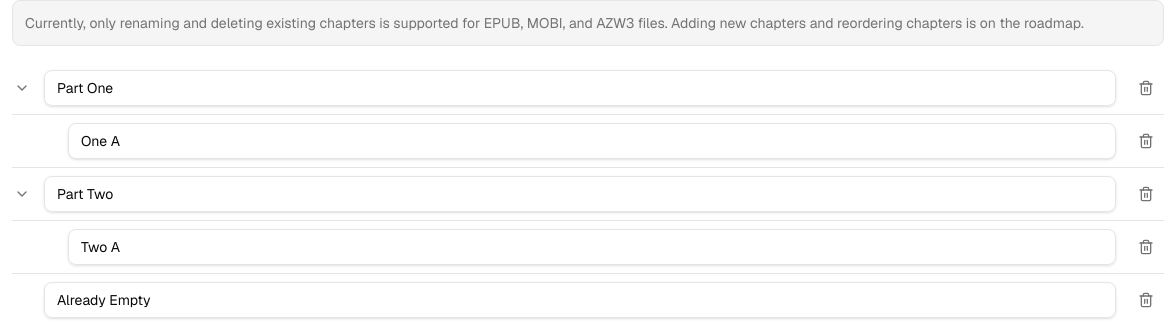
Test: FileChaptersEditor - EPUB heading left without chapters › blocks saving until a heading emptied in this edit is deleted
Expected: the 1st field showing "Part One" is shown, top-left (44, 70), bottom-right (1116, 106)
Expected: the text "no chapters are left under this heading" is not shown
Click the 2nd button named "Delete chapter". click: x=1146, y=141
box: top-left (1128, 123), bottom-right (1164, 159)
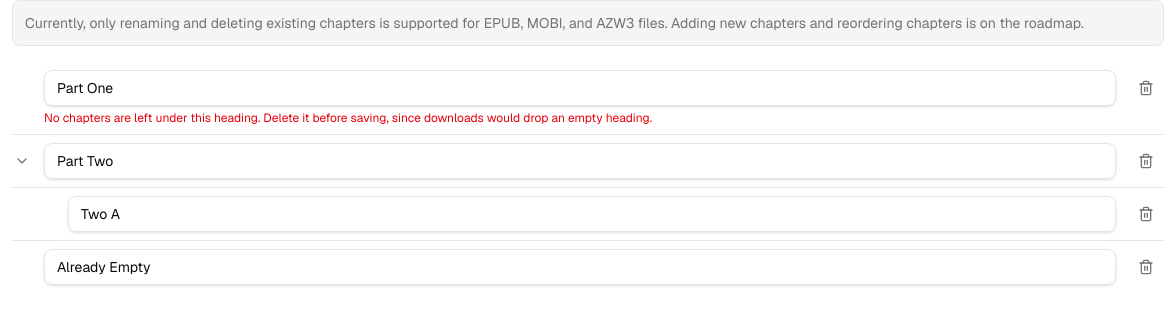
Click the 1st button named "Delete chapter". click: x=1146, y=88
box: top-left (1128, 70), bottom-right (1164, 106)
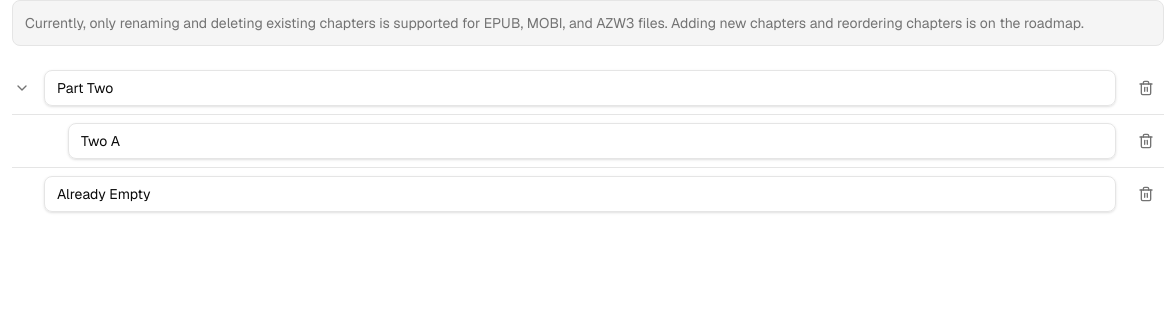
Now the text "No chapters are left under this heading" is gone
